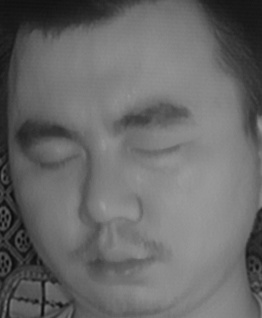blink: (133, 130, 186, 167), (32, 145, 80, 175)
mouth: (81, 235, 163, 289)
